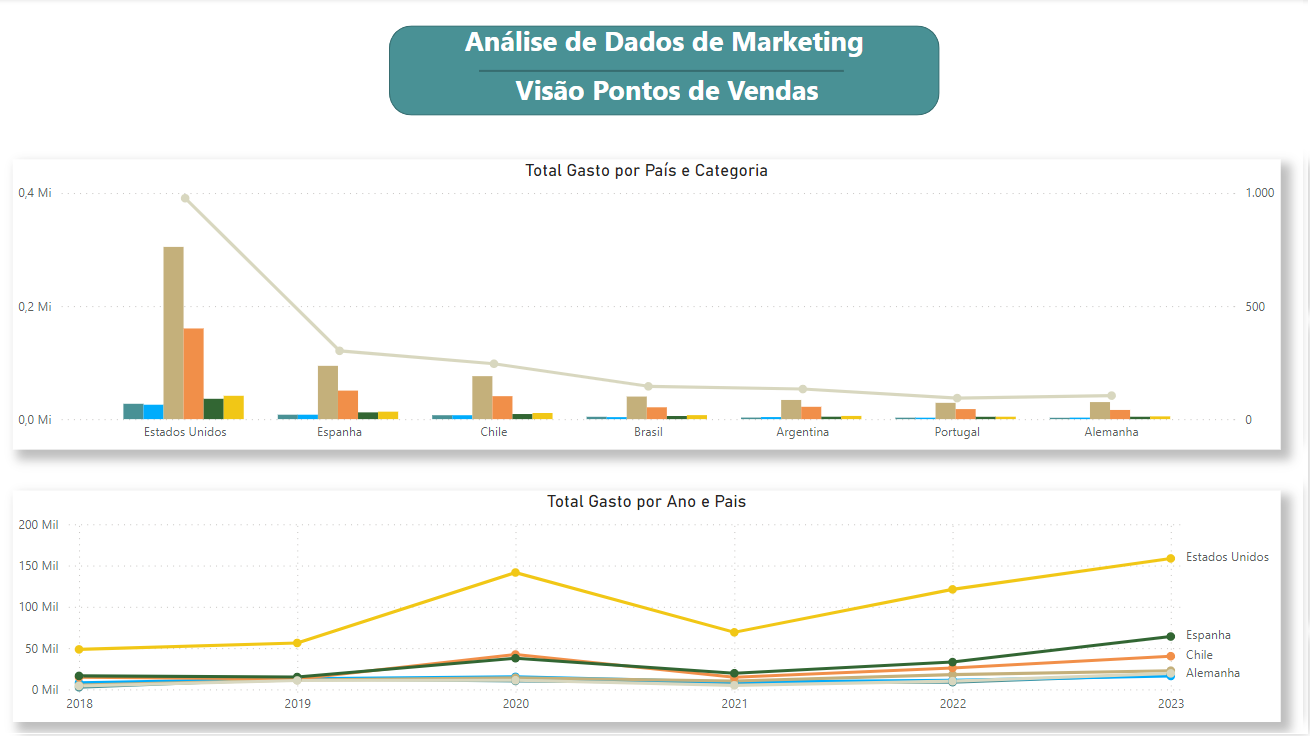

The page's visual inventory and layout, read from the dashboard file:
{"tool":"powerbi","page":{"name":"Visão Pontos de Venda","canvas":[1280,720],"ordinal":3},"visuals":[{"type":"lineClusteredColumnComboChart","title":"Total Gasto por País e Categoria","fields":{"Category":["DadosMarketing.Pais"],"Y":["Sum(DadosMarketing.Gasto com Alimentos)","Sum(DadosMarketing.Gasto com Brinquedos)","Sum(DadosMarketing.Gasto com Eletronicos)","Sum(DadosMarketing.Gasto com Moveis)","Sum(DadosMarketing.Gasto com Utilidades)","Sum(DadosMarketing.Gasto com Vestuario)"],"Y2":["CountNonNull(DadosMarketing.ID)"]},"box":[13.9,157.2,1239.7,283.8],"z":0},{"type":"lineChart","title":"Total Gasto por Ano e Pais","fields":{"Y":["DadosMarketing.TotalGasto"],"Series":["DadosMarketing.Pais"],"Category":["DadosMarketing.Data Cadastro.Variation.Hierarquia de datas.Ano"]},"box":[13.9,481.4,1239.7,226.8],"z":1000},{"type":"shape","box":[381.8,26.8,538.4,88.1],"z":2000},{"type":"shape","title":"linha","box":[469.8,26.8,356.9,88.4],"z":3000},{"type":"textbox","title":"texto marketing","box":[381.5,17.8,538.4,52.9],"z":4000},{"type":"textbox","title":"visao cliente","box":[387,70.7,531.5,43.1],"z":5000}]}

Visuals, with their boxes in screenshot pixels (x1, y1, x2, y2), scaled from the page's 1280x720 canvas onto the 1310x736 screenshot:
"Total Gasto por País e Categoria" lineClusteredColumnComboChart: <region>14, 161, 1283, 451</region>
"Total Gasto por Ano e Pais" lineChart: <region>14, 492, 1283, 724</region>
shape: <region>391, 27, 942, 117</region>
"linha" shape: <region>481, 27, 846, 118</region>
"texto marketing" textbox: <region>390, 18, 941, 72</region>
"visao cliente" textbox: <region>396, 72, 940, 116</region>
